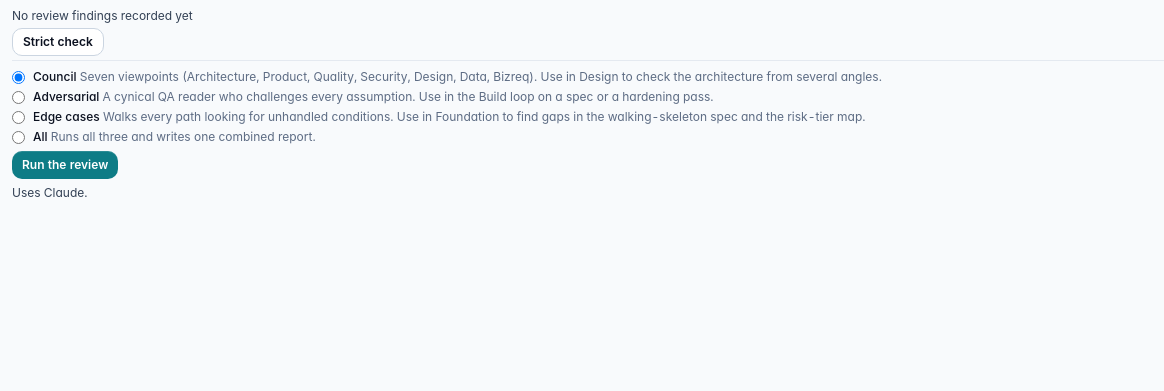
Scenario: ReviewStandingPanel: choosing how to review › sends Adversarial as the mode
Expected: the text "No review findings recorded yet" is shown, [12,8,193,23]
Step 1. Click the 2nd radio button → {"x": 18, "y": 98}, box [12,91,25,104]
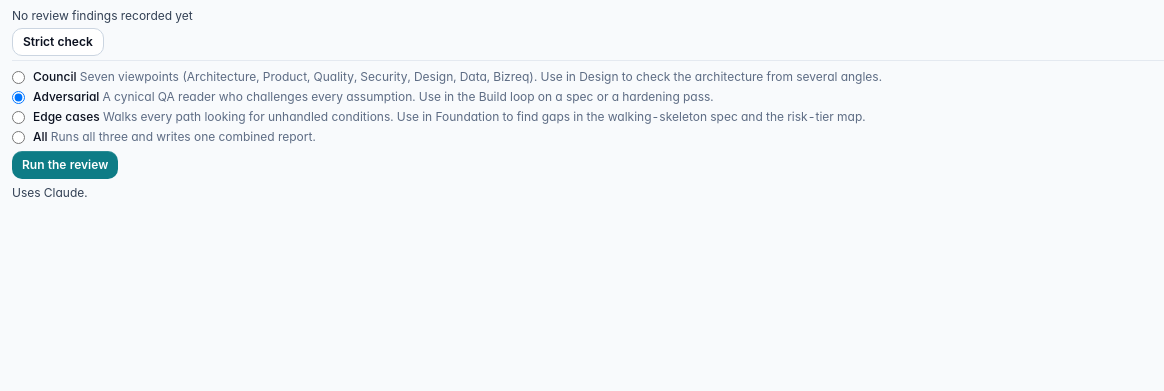
Step 2. Click the button "Run the review" → {"x": 65, "y": 165}, box [12,151,118,179]
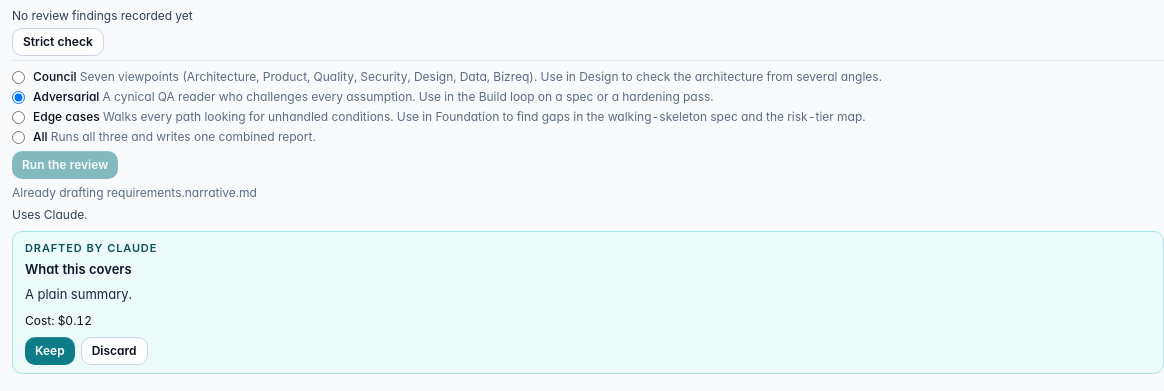
Expected: the element with test id "candidate-view" is shown, [12,231,1163,374]
